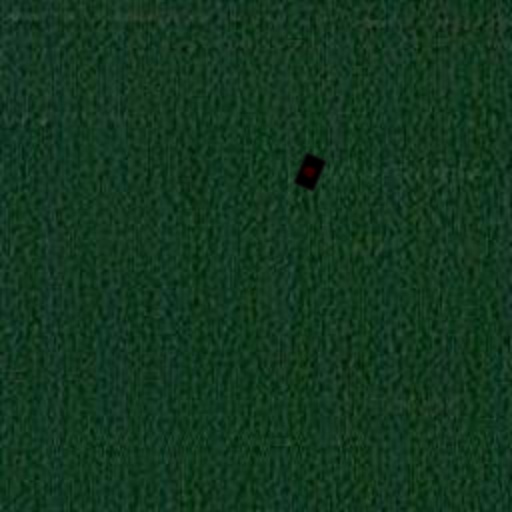rectangle: (286, 148, 334, 196)
